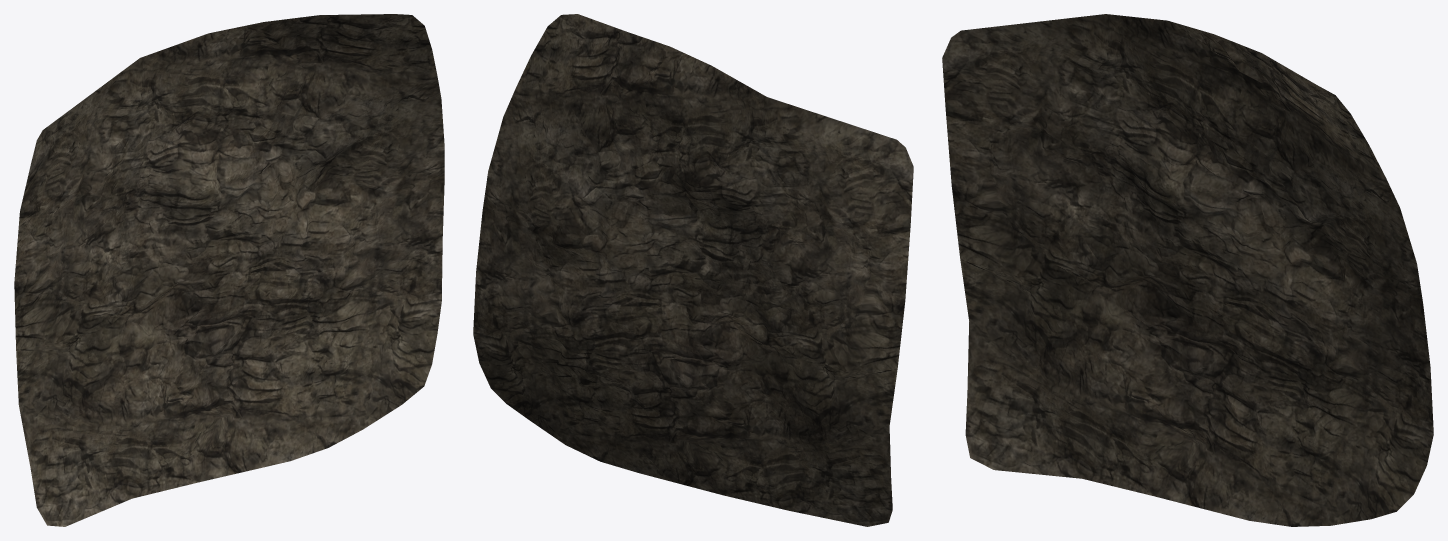
The model's file is MEP_C_Wall_03_N.fbx.
The picture shows the model from 3 angles, left to right: view 1: azimuth 30°, elevation 25°; view 2: azimuth 150°, elevation 25°; view 3: azimuth 330°, elevation 25°; orthographic projection. The views are drawn at different scales.
Parts seen in each view (by area): view 1: MEP_C_Wall_03; view 2: MEP_C_Wall_03; view 3: MEP_C_Wall_03.
Part boxes in pixels (<box>): MEP_C_Wall_03: <box>14,14,444,526</box>; MEP_C_Wall_03: <box>473,14,913,526</box>; MEP_C_Wall_03: <box>942,14,1433,526</box>.
Size of what is drawn, in the model's own units: 973 by 960 by 146.
1 material, 1 textured.
